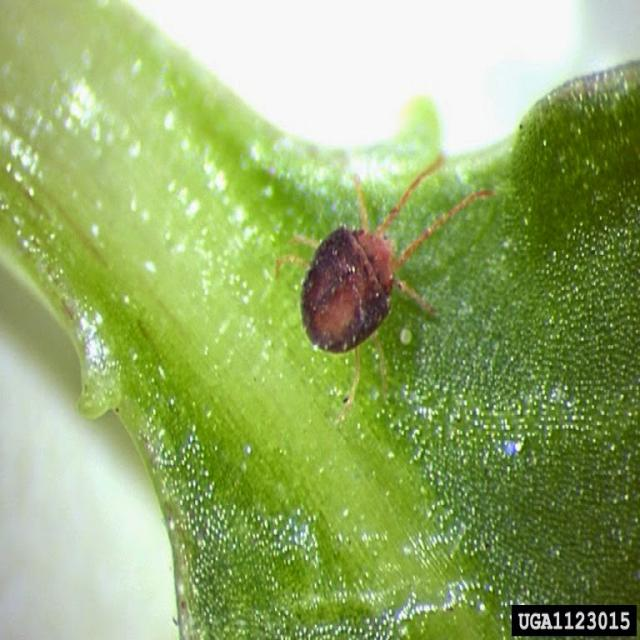Mites: (272, 146, 495, 410)
